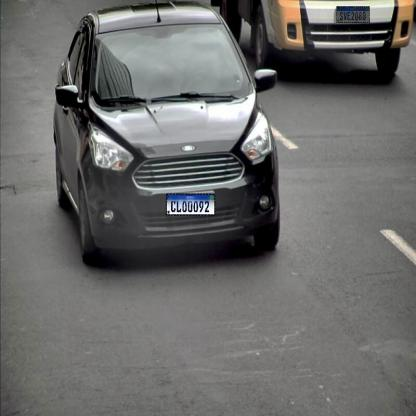PlacaM: (166, 193, 215, 216), (336, 6, 370, 23)
